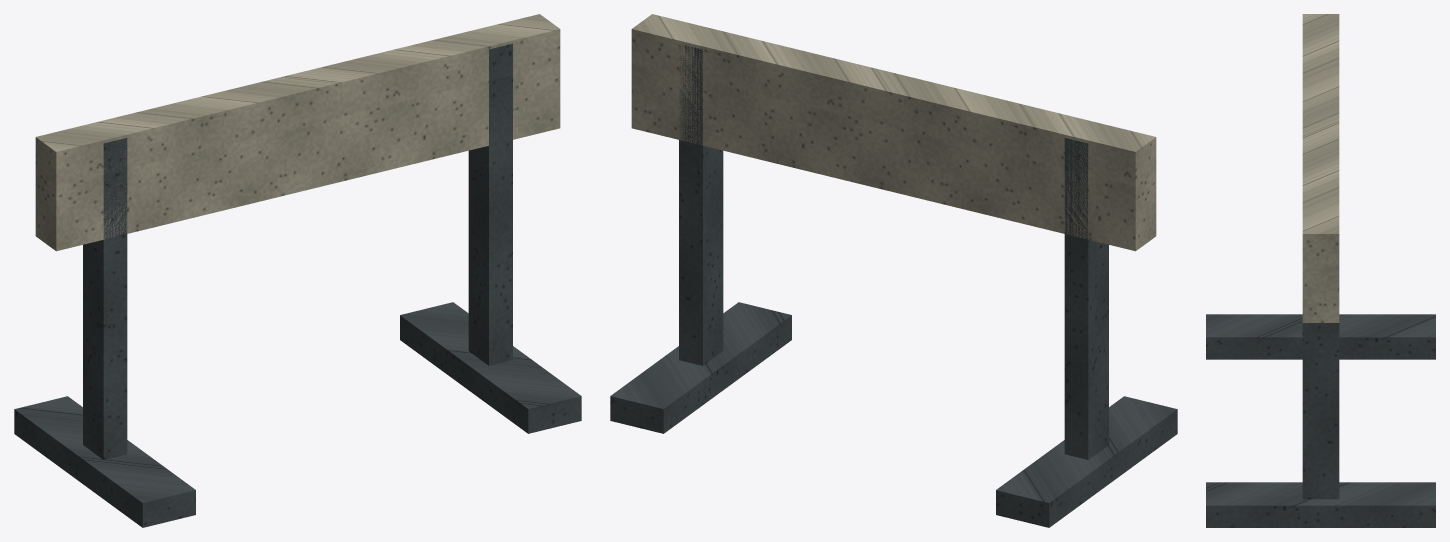
File: PROP-FB235CC5B080_lod2.glb
3 views of the same model, side by side, from view 1: azimuth 30°, elevation 25°; view 2: azimuth 150°, elevation 25°; view 3: azimuth 270°, elevation 25° (orthographic). The views are drawn at different scales.
Visible parts, largest first — view 1: barrier_board.002, barrier_leg.002, barrier_foot.002; view 2: barrier_board.002, barrier_leg.002, barrier_foot.002; view 3: barrier_foot.002, barrier_board.002, barrier_leg.002.
Boxes of the visible parts, x1,y1,x2,y2 form: barrier_board.002: [35, 14, 560, 251]; barrier_leg.002: [83, 43, 512, 459]; barrier_foot.002: [14, 302, 581, 527]; barrier_board.002: [631, 14, 1156, 251]; barrier_leg.002: [679, 44, 1108, 459]; barrier_foot.002: [610, 302, 1177, 527]; barrier_foot.002: [1206, 314, 1435, 527]; barrier_board.002: [1302, 14, 1339, 322]; barrier_leg.002: [1302, 323, 1339, 499].
Size of the model in its own units: 1.7 by 1.11 by 0.75.
2 materials, 2 textured.
